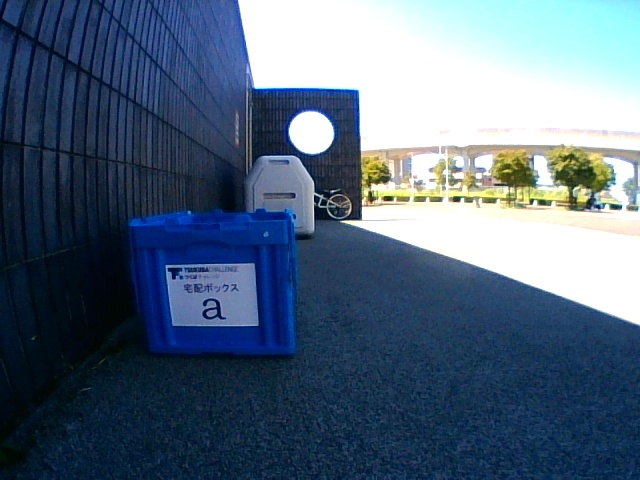blue_box: (129, 209, 297, 355)
tag_a: (172, 265, 255, 326)
